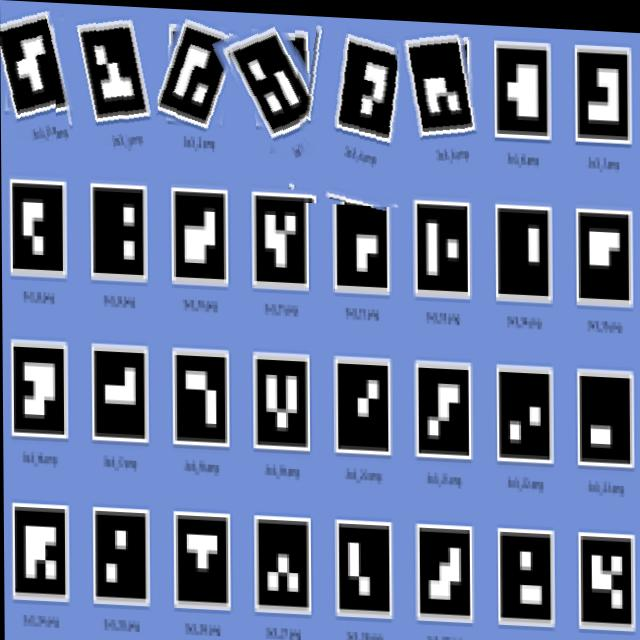aruco: (294, 12, 409, 204), (56, 3, 170, 152), (228, 12, 331, 174), (396, 16, 478, 188), (0, 0, 87, 152), (157, 8, 251, 133)
